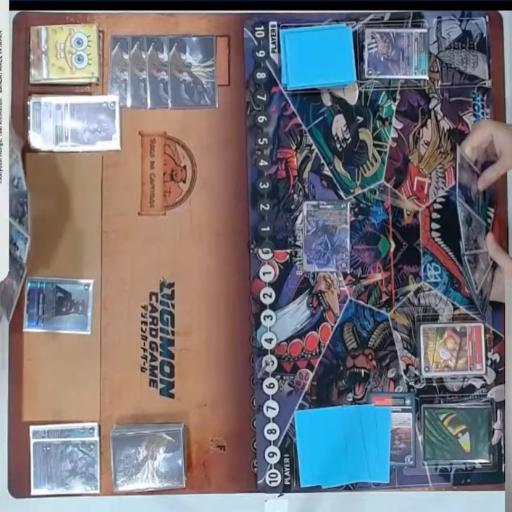card: (22, 278, 92, 337), (31, 436, 100, 492), (418, 322, 486, 378), (52, 98, 122, 152), (301, 200, 351, 274), (364, 27, 430, 79), (30, 423, 98, 441), (39, 96, 58, 151), (26, 94, 44, 152)
